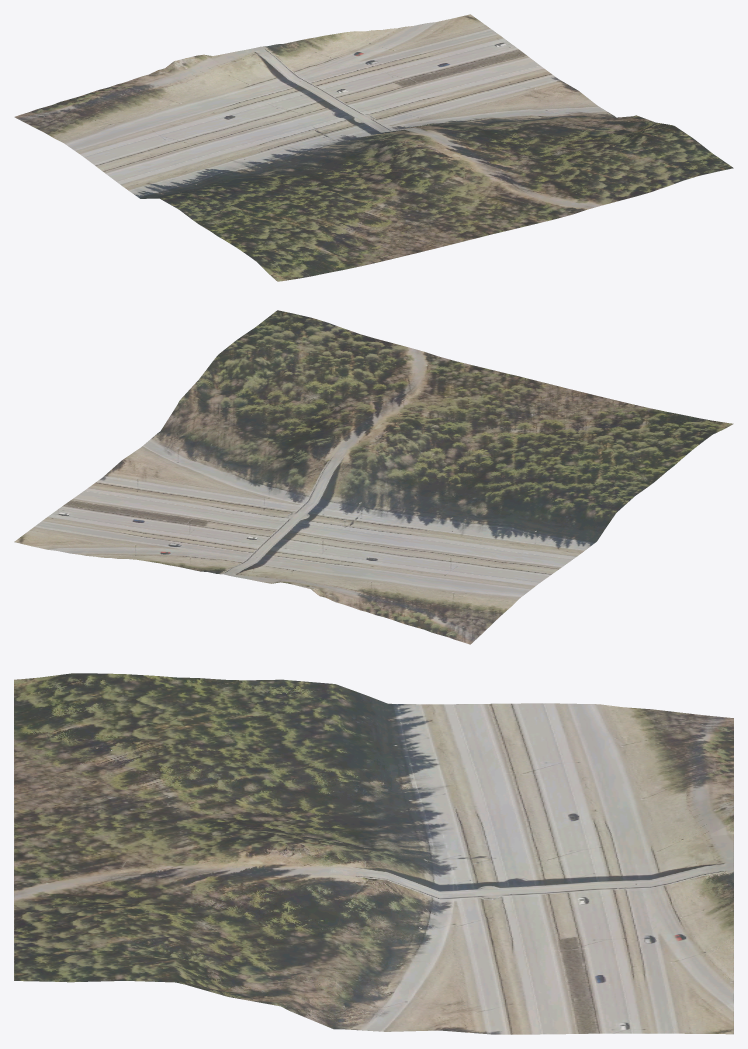
The model's file is CM_Terrain_24491073_6817746.fbx.
The picture shows the model from 3 angles, top to bottom: view 1: azimuth 30°, elevation 25°; view 2: azimuth 150°, elevation 25°; view 3: azimuth 270°, elevation 25°; orthographic projection. The views are drawn at different scales.
Parts seen in each view (by area): view 1: CM_Terrain_24491073_6817746_LOD0; view 2: CM_Terrain_24491073_6817746_LOD0; view 3: CM_Terrain_24491073_6817746_LOD0.
Part boxes in pixels (x1,y1,x2,y2): CM_Terrain_24491073_6817746_LOD0: [14, 14, 733, 281]; CM_Terrain_24491073_6817746_LOD0: [14, 310, 733, 644]; CM_Terrain_24491073_6817746_LOD0: [14, 673, 733, 1034].
Size of what is drawn, in the model's own units: 205 by 17.87 by 205.
